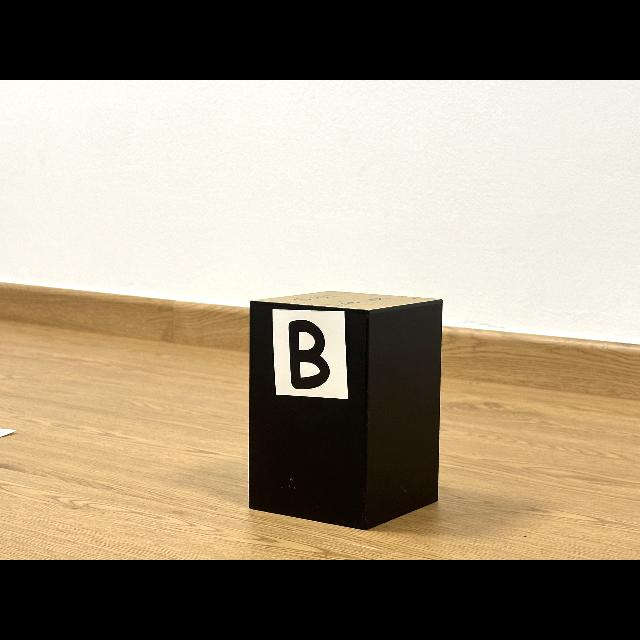B: (289, 320, 330, 389)
